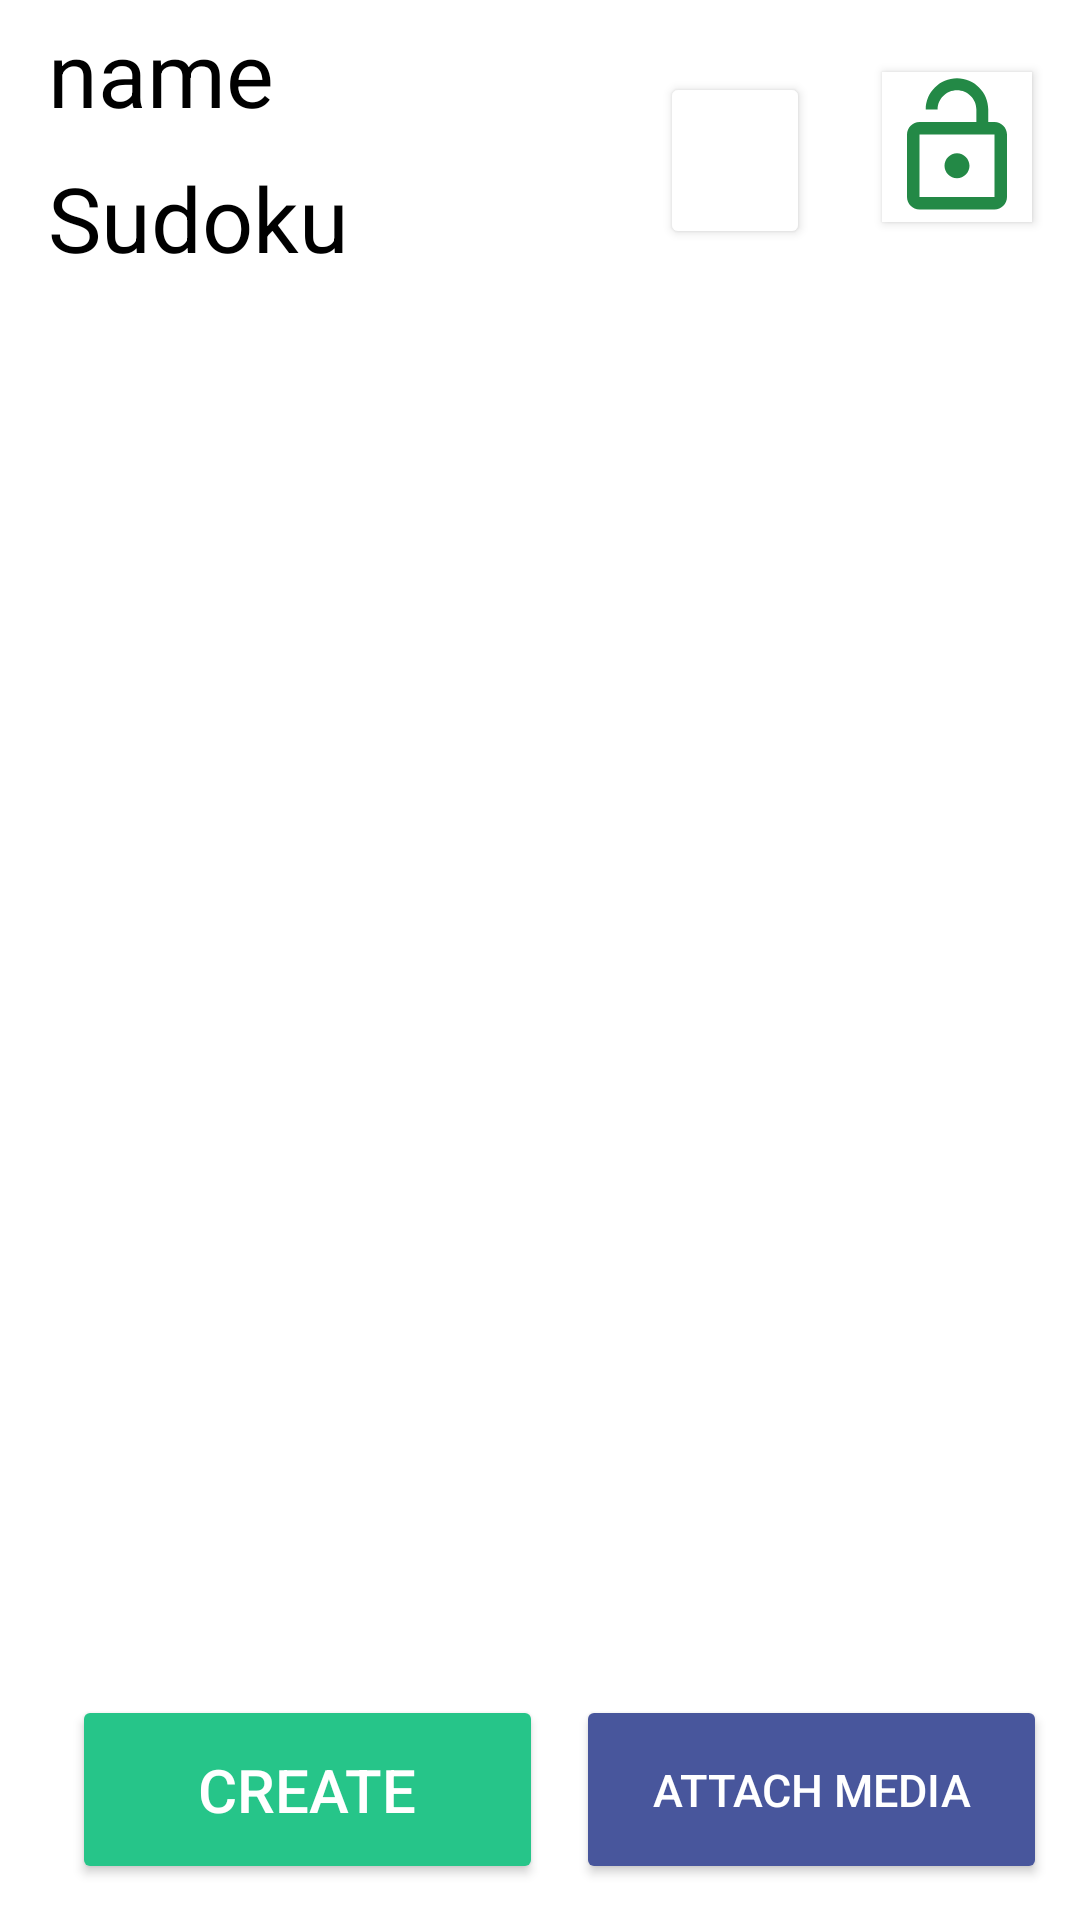

Icons on this 1080x1920 Android screen, each with the point to tap as (x,y):
lockunlock: (957,144)
